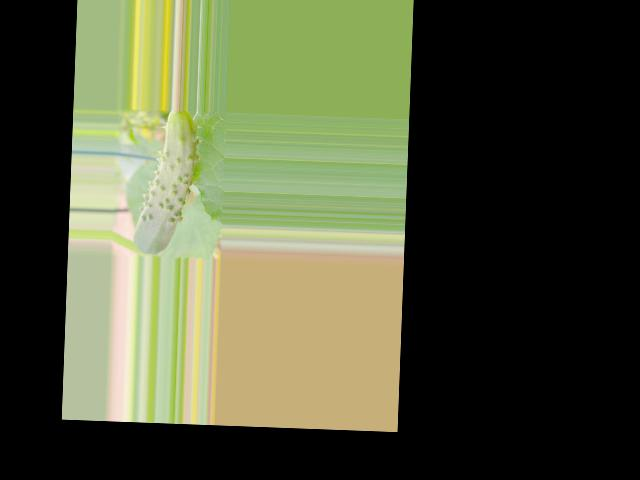cucumber: (133, 109, 200, 257)
